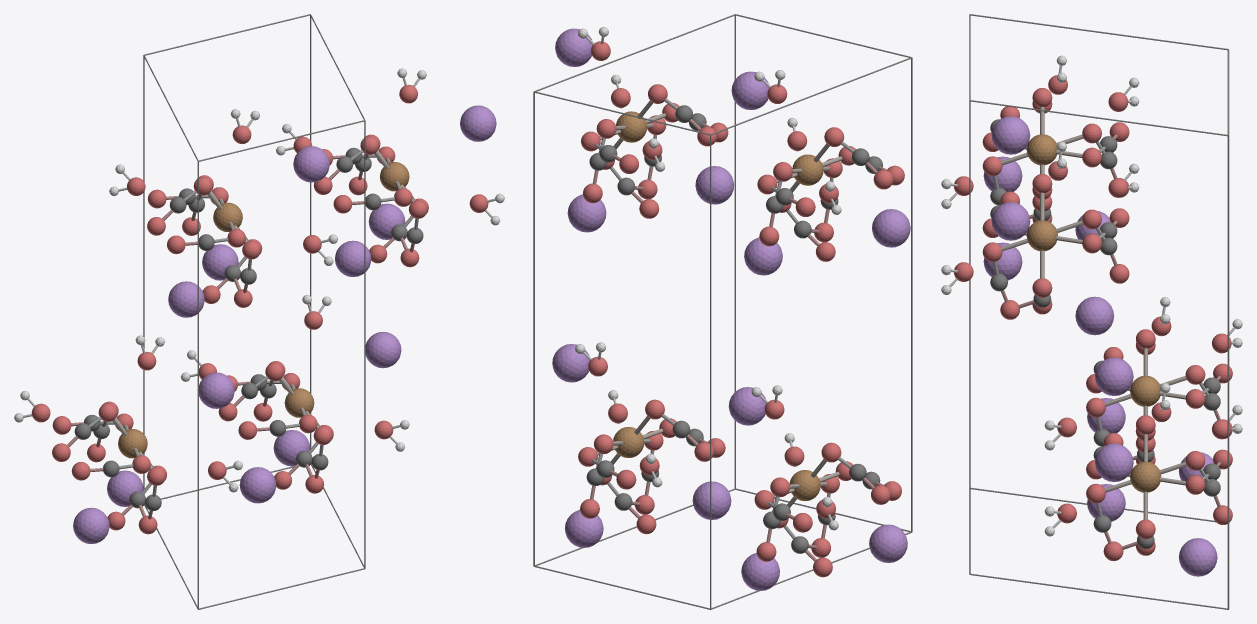
File: Potassium_tris_oxalato_ferrate_III_trihydrate.glb
3 renders of one model, left to right at view 1: azimuth 30°, elevation 25°; view 2: azimuth 150°, elevation 25°; view 3: azimuth 270°, elevation 25°, orthographic. The views are drawn at different scales.
Parts seen in each view (by area): view 1: O_atoms, K_atoms, unit_cell_outline, C_atoms, bonds, Fe_atoms, H_atoms; view 2: O_atoms, K_atoms, unit_cell_outline, C_atoms, bonds, Fe_atoms, H_atoms; view 3: O_atoms, K_atoms, unit_cell_outline, bonds, C_atoms, Fe_atoms, H_atoms.
Part boxes in pixels (x1,y1,x2,y2): O_atoms: [31, 84, 488, 534]; K_atoms: [73, 105, 496, 543]; unit_cell_outline: [143, 14, 365, 609]; C_atoms: [74, 147, 423, 510]; bonds: [23, 77, 495, 519]; Fe_atoms: [118, 162, 409, 458]; H_atoms: [14, 68, 504, 492]; O_atoms: [578, 41, 904, 577]; K_atoms: [552, 28, 910, 590]; unit_cell_outline: [533, 14, 912, 609]; C_atoms: [586, 105, 882, 553]; bonds: [583, 36, 886, 561]; Fe_atoms: [613, 111, 823, 500]; H_atoms: [575, 26, 841, 530]; O_atoms: [954, 75, 1232, 561]; K_atoms: [983, 116, 1217, 576]; unit_cell_outline: [969, 14, 1229, 609]; bonds: [949, 65, 1235, 549]; C_atoms: [990, 119, 1220, 549]; Fe_atoms: [1026, 134, 1161, 492]; H_atoms: [941, 55, 1242, 536].
Bounding box in the file's own units: 17.56 × 19.99 × 11.51.
